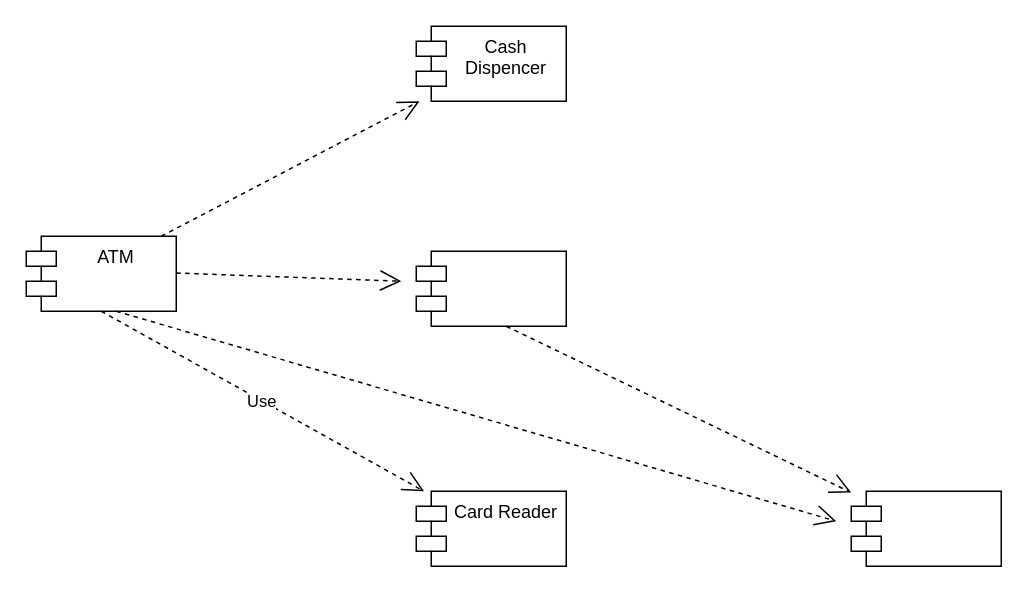
Image size: 1028x593. Some labels were removed from this diagram. The centre of each missing label's shape, as x and y in pixels:
"ATM Network" goes at pixel 925 528.
"Card Validator" goes at pixel 490 288.
